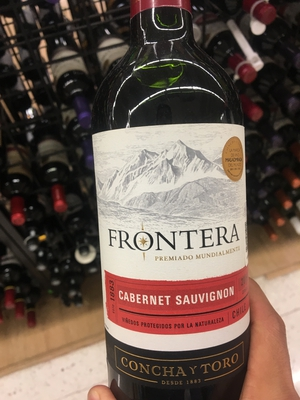frontera cabernet sauvignon: (96, 3, 255, 395)
